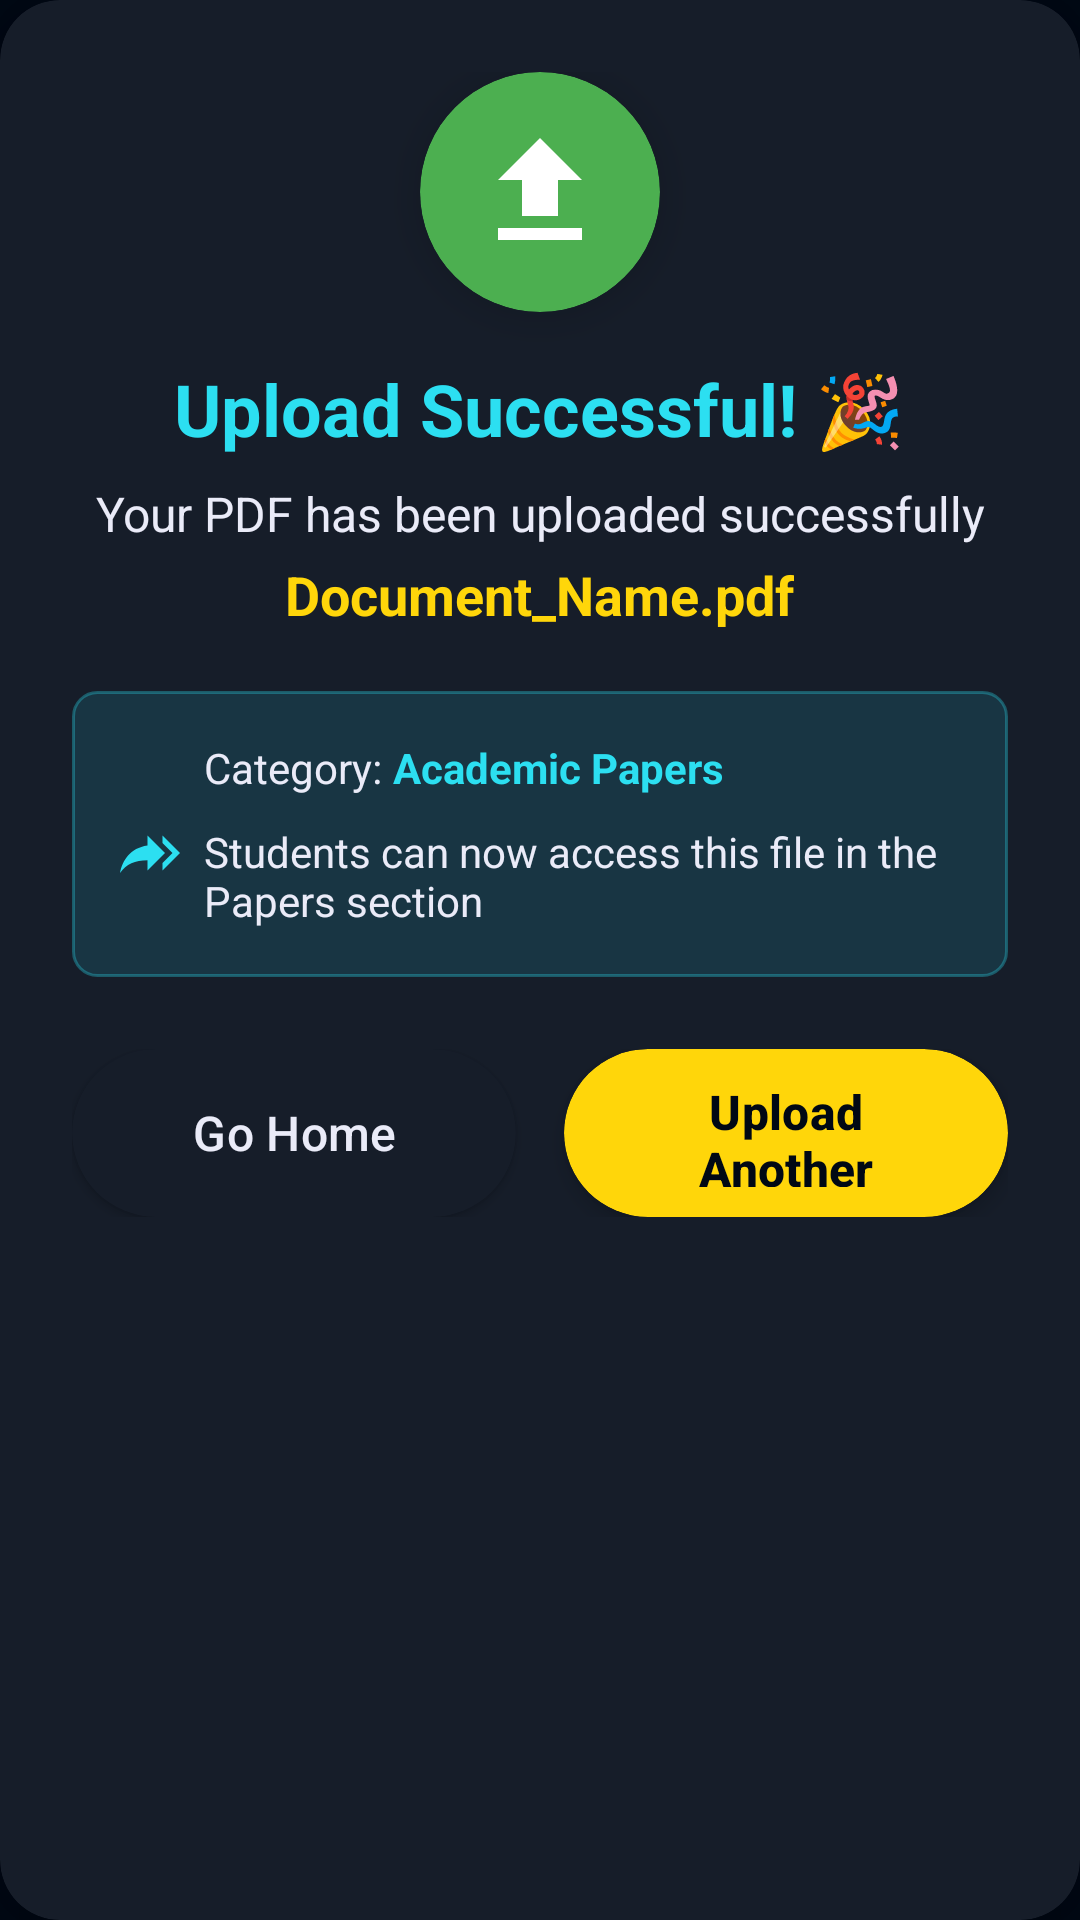

Point at icon controls on the screen. Image size 1080px×1920px, points as (x=x, y=y).
share: (x=150, y=854)
